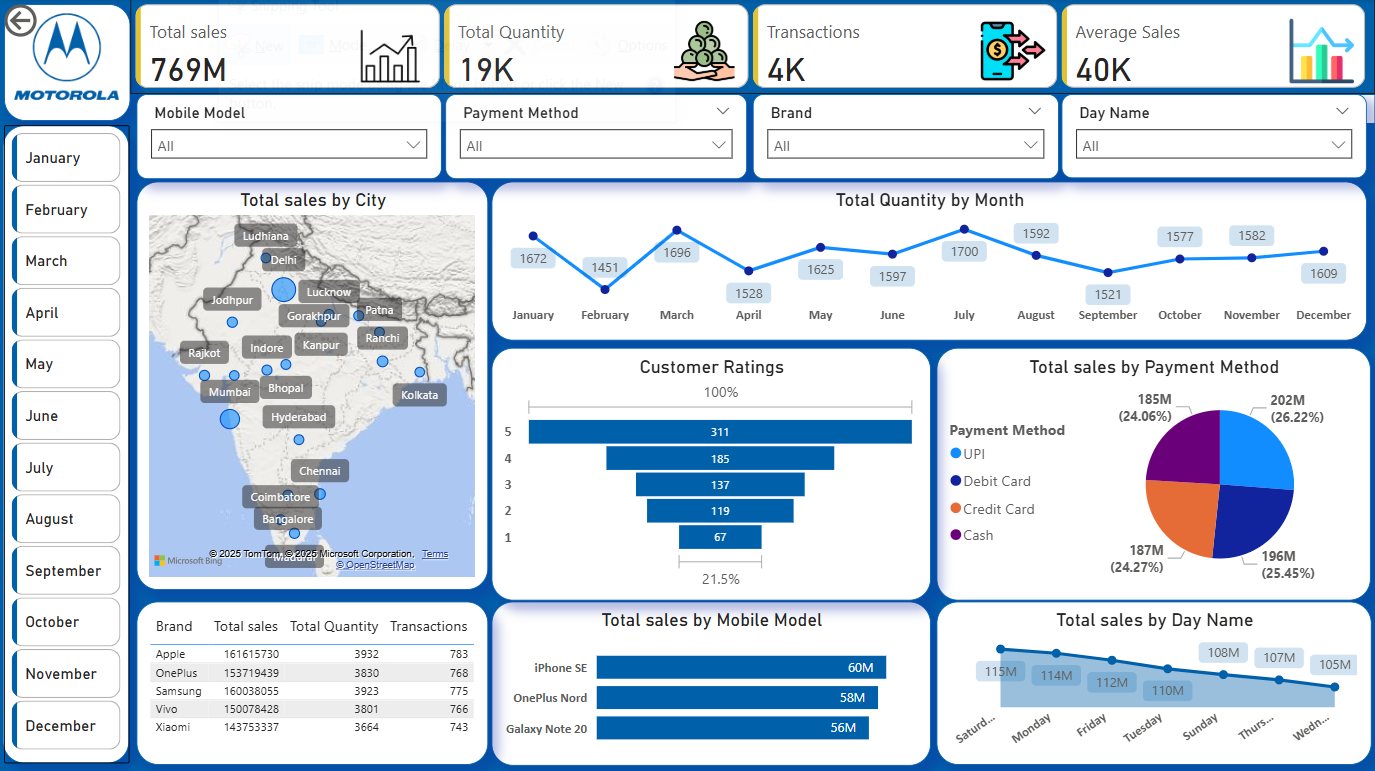

This screenshot's page, from the dashboard's own definition file:
{"tool":"powerbi","page":{"name":"Page 1","canvas":[1280,720],"ordinal":0},"visuals":[{"type":"shape","box":[4.4,5,117.2,108.9],"z":0},{"type":"image","box":[9.4,0,107.8,107.8],"z":1000},{"type":"shape","box":[3.8,117.9,117.9,593.6],"z":2000},{"type":"advancedSlicerVisual","fields":{"Values":["Sheet1.date.Variation.Date Hierarchy.Month"]},"box":[5.1,117.9,116.7,593.6],"z":3000},{"type":"cardVisual","fields":{"Data":["Sheet1.Total sell","Sheet1.Total Quantity","Sheet1.Total transactions","Sales_Data.Average Sales"]},"box":[122.5,0,1157.3,88.5],"z":3001},{"type":"map","fields":{"Category":["Sales_Data.City"],"Size":["Sales_Data.Total sales"]},"box":[127.8,169.6,327.2,379.8],"z":3002},{"type":"lineChart","fields":{"Category":["Sales_Data.date.Variation.Date Hierarchy.Month","Sales_Data.date.Variation.Date Hierarchy.Day"],"Y":["Sales_Data.Total Quantity"]},"box":[458.6,169.6,814.5,148.1],"z":3003},{"type":"clusteredBarChart","fields":{"Category":["Sales_Data.Mobile Model"],"Y":["Sales_Data.Total sales"]},"box":[458.6,560.1,408.4,152.9],"z":3004},{"type":"pieChart","fields":{"Category":["Sales_Data.Payment Method"],"Y":["Sales_Data.Total sales"]},"box":[871.8,324.8,403.7,235.3],"z":3005},{"type":"funnel","title":"Customer Ratings","fields":{"Y":["CountNonNull(Sales_Data.Customer Ratings)"],"Category":["Sales_Data.Customer Ratings"]},"box":[458.6,324.8,408.4,235.3],"z":3006},{"type":"areaChart","fields":{"Category":["Sales_Data.Day Name"],"Y":["Sales_Data.Total sales"]},"box":[871.8,560.1,404.9,151.7],"z":3007},{"type":"tableEx","fields":{"Values":["Sales_Data.Brand","Sales_Data.Total sales","Sales_Data.Total Quantity","Sales_Data.Transactions"]},"box":[127.8,560.1,327.2,151.7],"z":3008},{"type":"actionButton","box":[0,0,100,40],"z":3009},{"type":"slicer","fields":{"Values":["Sales_Data.Mobile Model"]},"box":[127.7,88.5,284.2,79.1],"z":3010},{"type":"slicer","fields":{"Values":["Sales_Data.Payment Method"]},"box":[415.4,88.5,281,79.1],"z":3011},{"type":"slicer","fields":{"Values":["Sales_Data.Brand"]},"box":[701.2,88.5,285,79.1],"z":3012},{"type":"slicer","fields":{"Values":["Sales_Data.Day Name"]},"box":[988.9,88.5,284.2,78.7],"z":3013}]}

Visuals, with their boxes in screenshot pixels (x1, y1, x2, y2), scaled from the page's 1280x720 canvas onto the 1375x771 screenshot:
shape: (5,5,131,122)
image: (10,0,126,115)
shape: (4,126,131,762)
advancedSlicerVisual - Sheet1.date.Variation.Date Hierarchy.Month: (5,126,131,762)
cardVisual - Sheet1.Total sell x Sheet1.Total Quantity: (132,0,1374,95)
map - Sales_Data.City x Sales_Data.Total sales: (137,182,489,588)
lineChart - Sales_Data.date.Variation.Date Hierarchy.Month x Sales_Data.date.Variation.Date Hierarchy.Day: (493,182,1368,340)
clusteredBarChart - Sales_Data.Mobile Model x Sales_Data.Total sales: (493,600,931,764)
pieChart - Sales_Data.Payment Method x Sales_Data.Total sales: (937,348,1370,600)
"Customer Ratings" funnel: (493,348,931,600)
areaChart - Sales_Data.Day Name x Sales_Data.Total sales: (937,600,1371,762)
tableEx - Sales_Data.Brand x Sales_Data.Total sales: (137,600,489,762)
actionButton: (0,0,107,43)
slicer - Sales_Data.Mobile Model: (137,95,442,179)
slicer - Sales_Data.Payment Method: (446,95,748,179)
slicer - Sales_Data.Brand: (753,95,1059,179)
slicer - Sales_Data.Day Name: (1062,95,1368,179)
